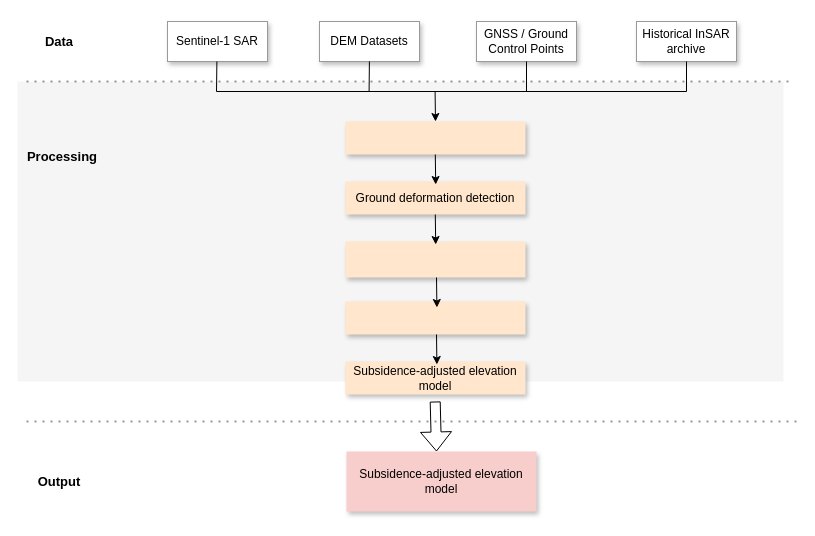
This 815x536 diagram has some shape labels left out. The shapes that lost their labels are listed below. From the top down, each one's centre as x and y in pixels, then its label:
At (x=436, y=139): "InSAR time-series analysis".
At (x=436, y=260): "Subsidence velocity estimation".
At (x=436, y=319): "DEM correction".
